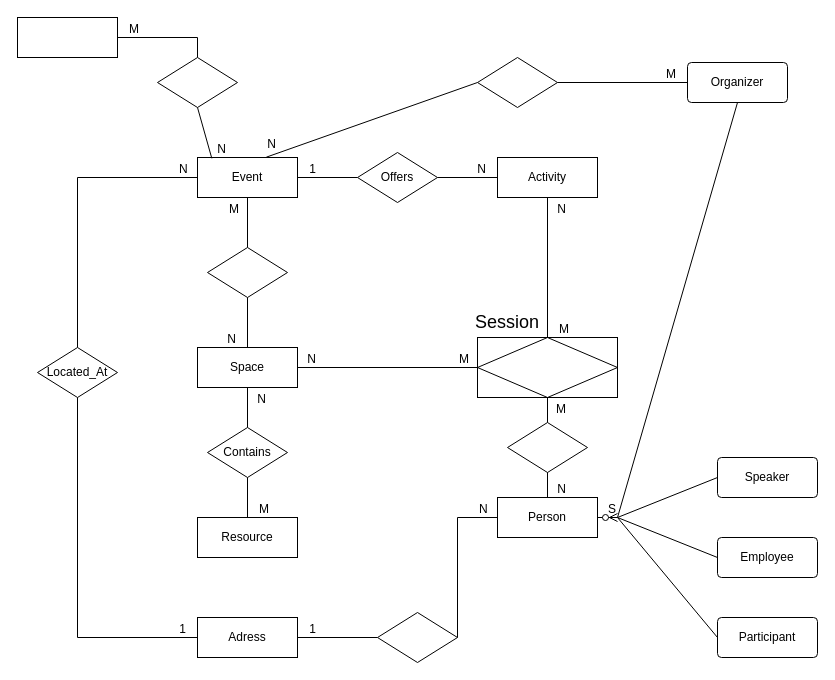
Some shapes in this 835 by 680 pixel diagram are drawn without their labels. The shapes that lost their labels are listed below. From the top down, each one's box as (x1, y1, x2, y2) in pixels, then its label:
(16, 16, 118, 58): LegalEntity
(156, 56, 238, 108): Sponsors
(476, 56, 558, 108): Organizes
(206, 246, 288, 298): Hosts
(476, 336, 618, 398): Allocation
(506, 422, 588, 472): Attends
(376, 612, 458, 662): Resides_At
